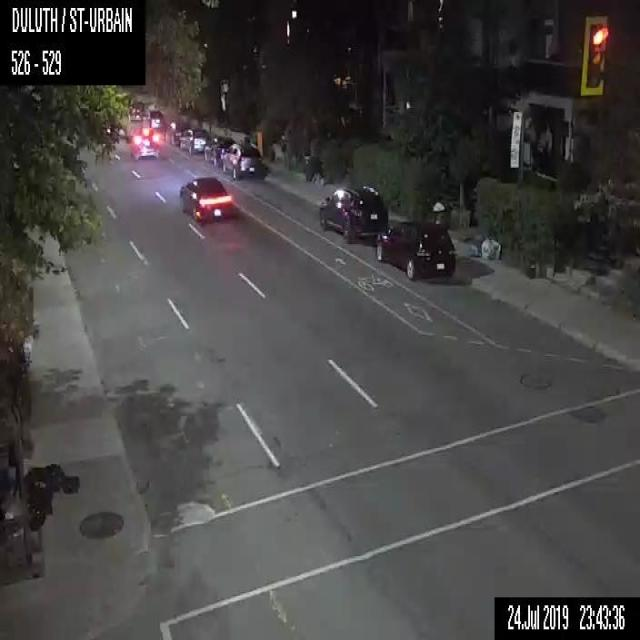construction: (255, 130, 262, 158)
vehicle: (377, 219, 458, 280), (317, 185, 388, 241), (178, 175, 232, 220), (220, 142, 263, 179), (204, 136, 236, 164), (131, 127, 159, 157), (180, 128, 212, 153), (164, 119, 186, 145), (143, 108, 163, 130), (128, 100, 143, 120)
